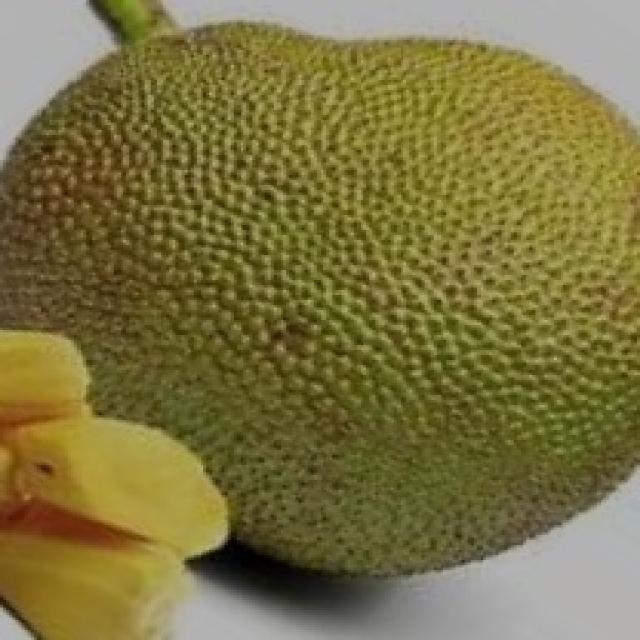Fruit: (0, 3, 397, 395), (258, 5, 640, 307)
